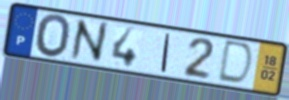2: (183, 36, 216, 81)
4: (110, 25, 140, 69)
D: (215, 39, 256, 88)
I: (159, 31, 173, 75)
N: (68, 17, 109, 64)
O: (34, 12, 73, 60)
